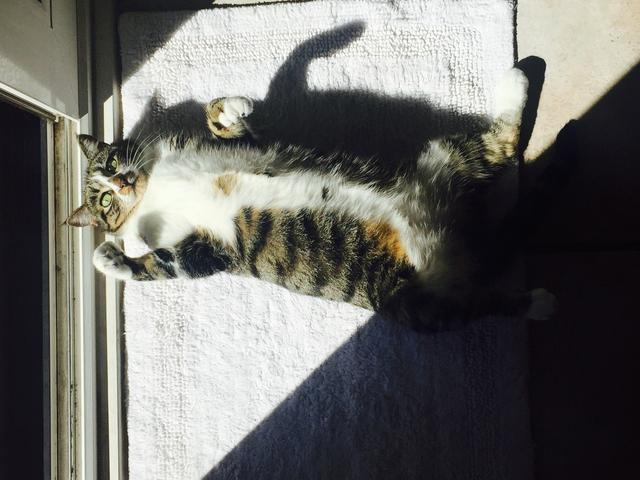playdoh: (60, 70, 561, 331)
